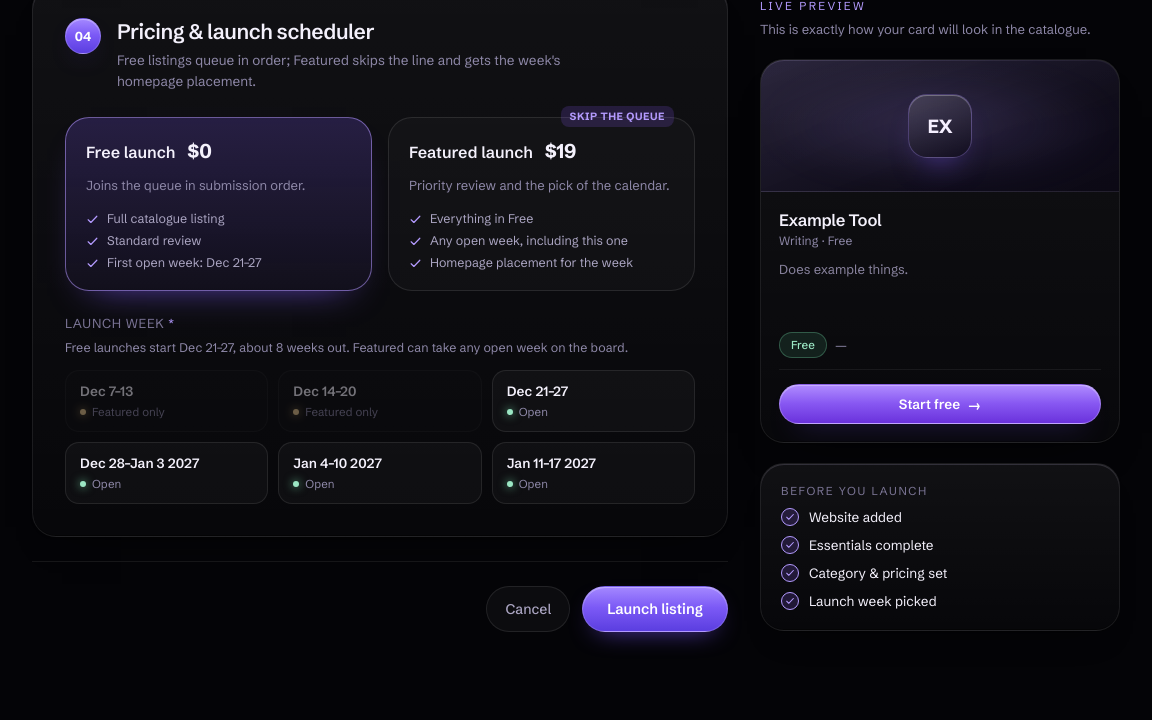
it: SubmitPage with accounts › a click while the session is still loading waits for /auth/me, then proceeds
(page scrolled)
Click the button "Launch listing": (655, 609) [582,586,728,632]
(page scrolled)
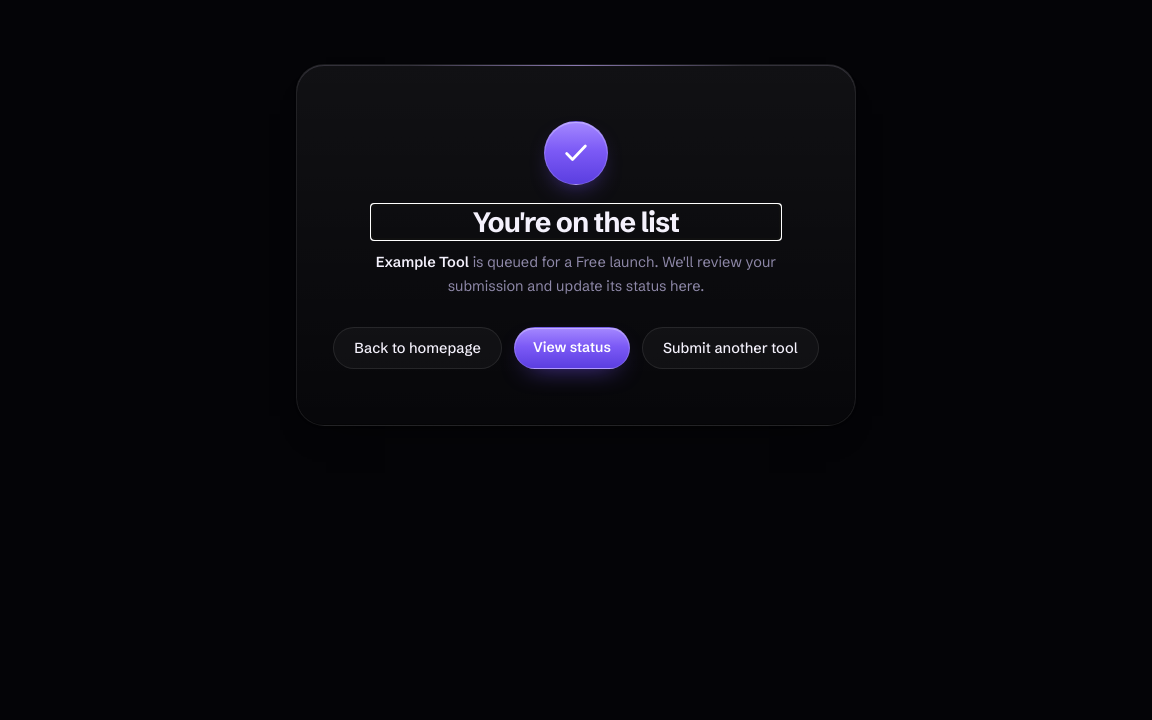
Result: the heading "You're on the list" is shown at [473,205,679,239]
